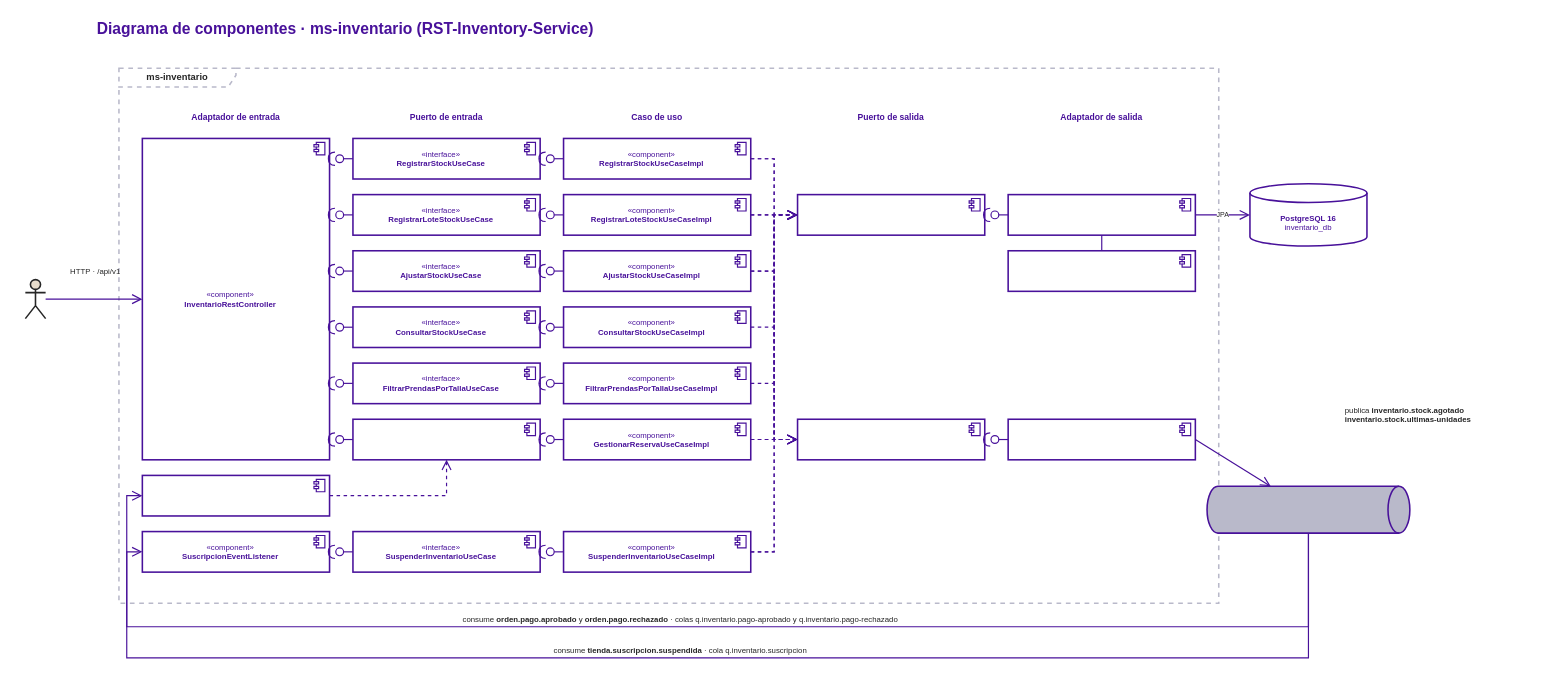
Some shapes in this 1559 by 681 pixel diagram are drawn without their labels. The shapes that lost their labels are listed below. From the top down, each one's box as (x1, y1, x2, y2) in pixels, then its label:
(796, 193, 985, 236): «interface» StockRepositoryPort
(1007, 193, 1196, 236): «component» PostgreSqlStockRepositoryAdapter
(1007, 250, 1196, 292): «component» StockItemEntityMapper
(24, 278, 46, 319): API Gateway
(352, 418, 541, 460): «interface» GestionarReservaUseCase
(796, 418, 985, 460): «interface» StockEventPublisherPort
(1007, 418, 1196, 460): «component» RabbitMqStockEventPublisherAdapter
(141, 474, 330, 516): «component» OrdenPagoEventListener
(1206, 485, 1410, 534): RabbitMQ styleradar.events
